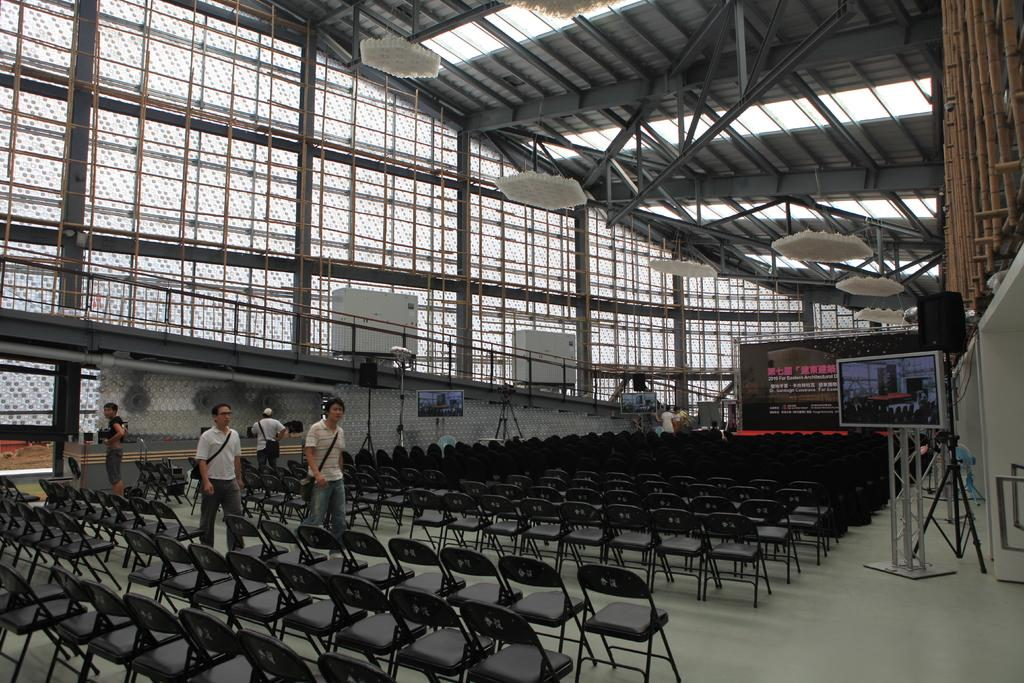Chair: (570, 552, 684, 671), (505, 551, 602, 661), (324, 572, 425, 675), (9, 567, 99, 682), (379, 588, 493, 677), (463, 598, 573, 682), (701, 509, 776, 609), (270, 564, 351, 651), (31, 580, 108, 670), (220, 550, 301, 635), (92, 593, 164, 682), (653, 508, 723, 597), (602, 502, 675, 579), (136, 609, 211, 682), (750, 498, 808, 585), (435, 547, 518, 606), (189, 538, 246, 621), (337, 529, 419, 585), (563, 495, 630, 563), (296, 520, 362, 580), (122, 534, 174, 609), (236, 634, 317, 682), (58, 527, 120, 588), (156, 531, 198, 616), (255, 516, 324, 567), (519, 501, 566, 575), (476, 493, 530, 555), (440, 492, 496, 551), (787, 492, 830, 564), (220, 511, 283, 556), (392, 542, 447, 589), (409, 483, 452, 541), (129, 500, 174, 555), (156, 502, 200, 554), (104, 488, 138, 555), (346, 475, 383, 525), (19, 501, 45, 567), (63, 480, 93, 529), (160, 462, 195, 500), (3, 497, 28, 546), (283, 476, 312, 516), (84, 492, 115, 527), (42, 517, 60, 577), (380, 487, 404, 532), (254, 479, 280, 517), (237, 472, 257, 511), (49, 482, 70, 513), (40, 475, 51, 504)
